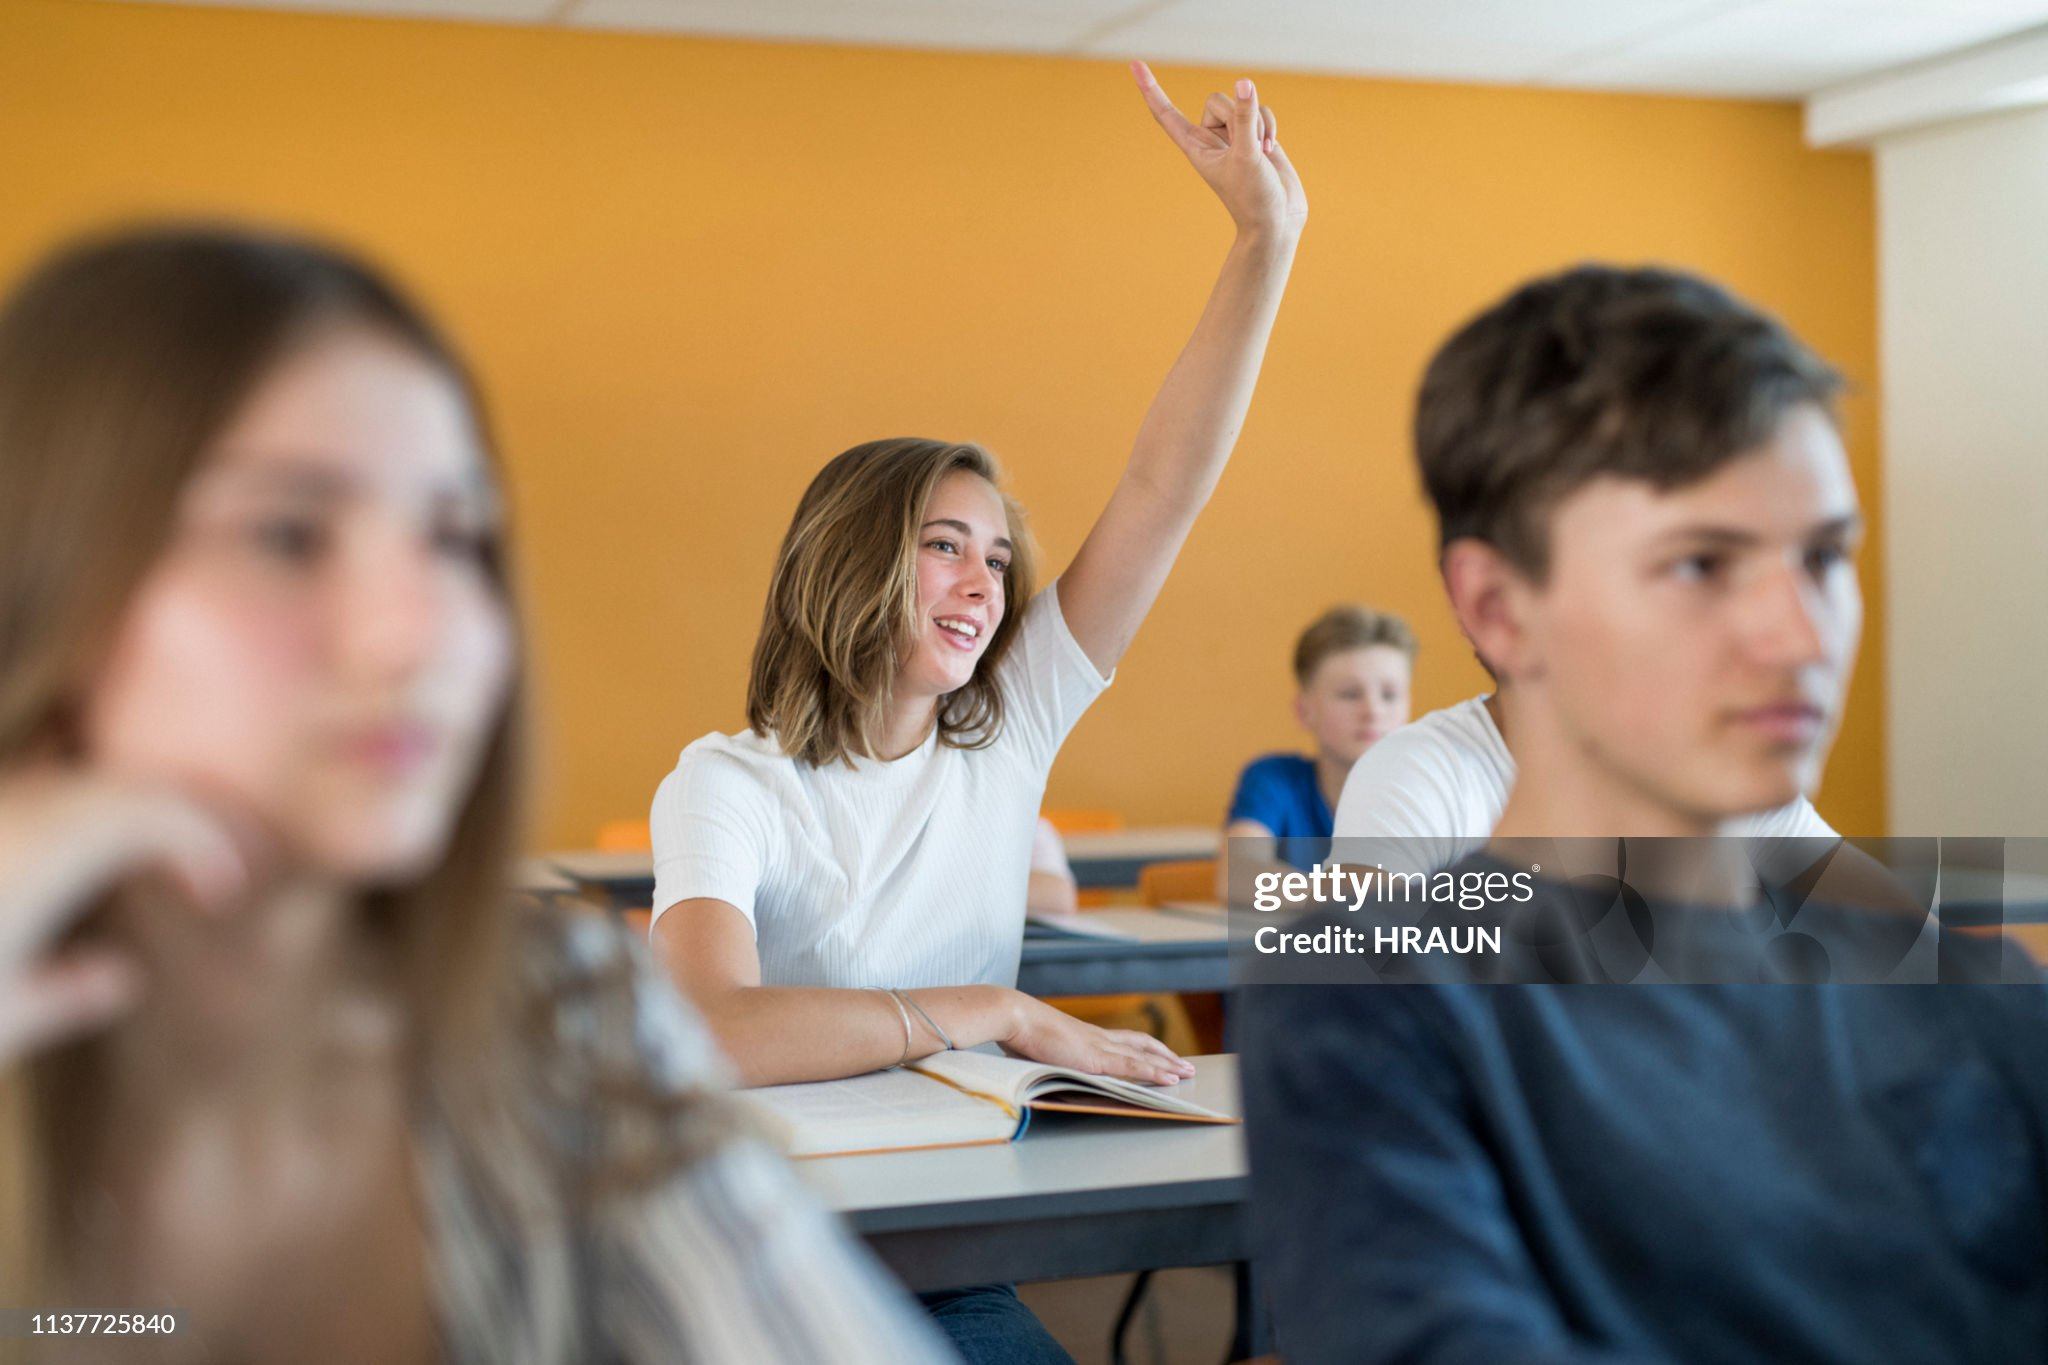entre15-30-porcento: (0, 56, 2046, 1133)
